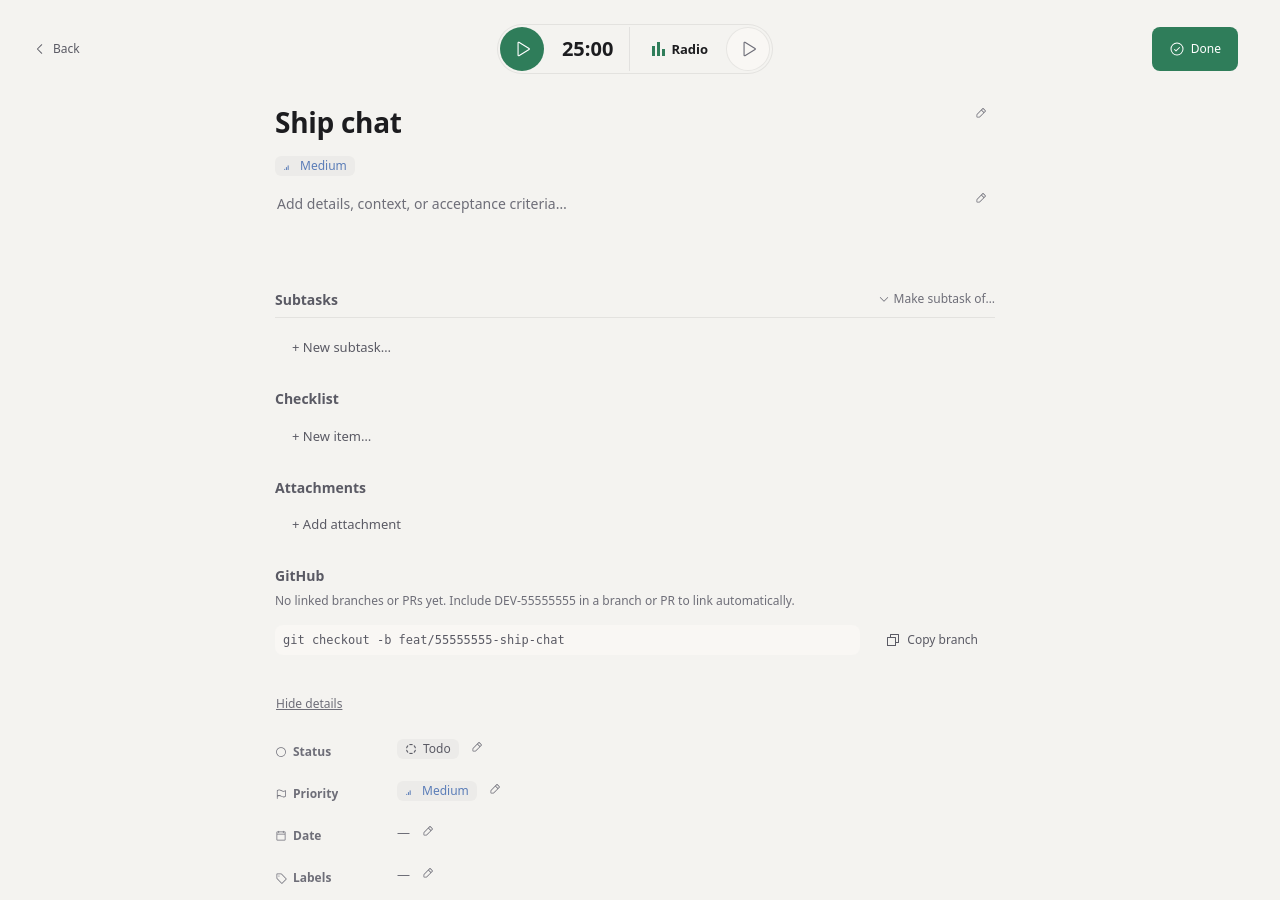
Test case: FocusPage › clicking checklist add while subtask composer open switches composers
Click the button "+ New subtask…": click(347, 347) x1=275 y1=326 x2=995 y2=370
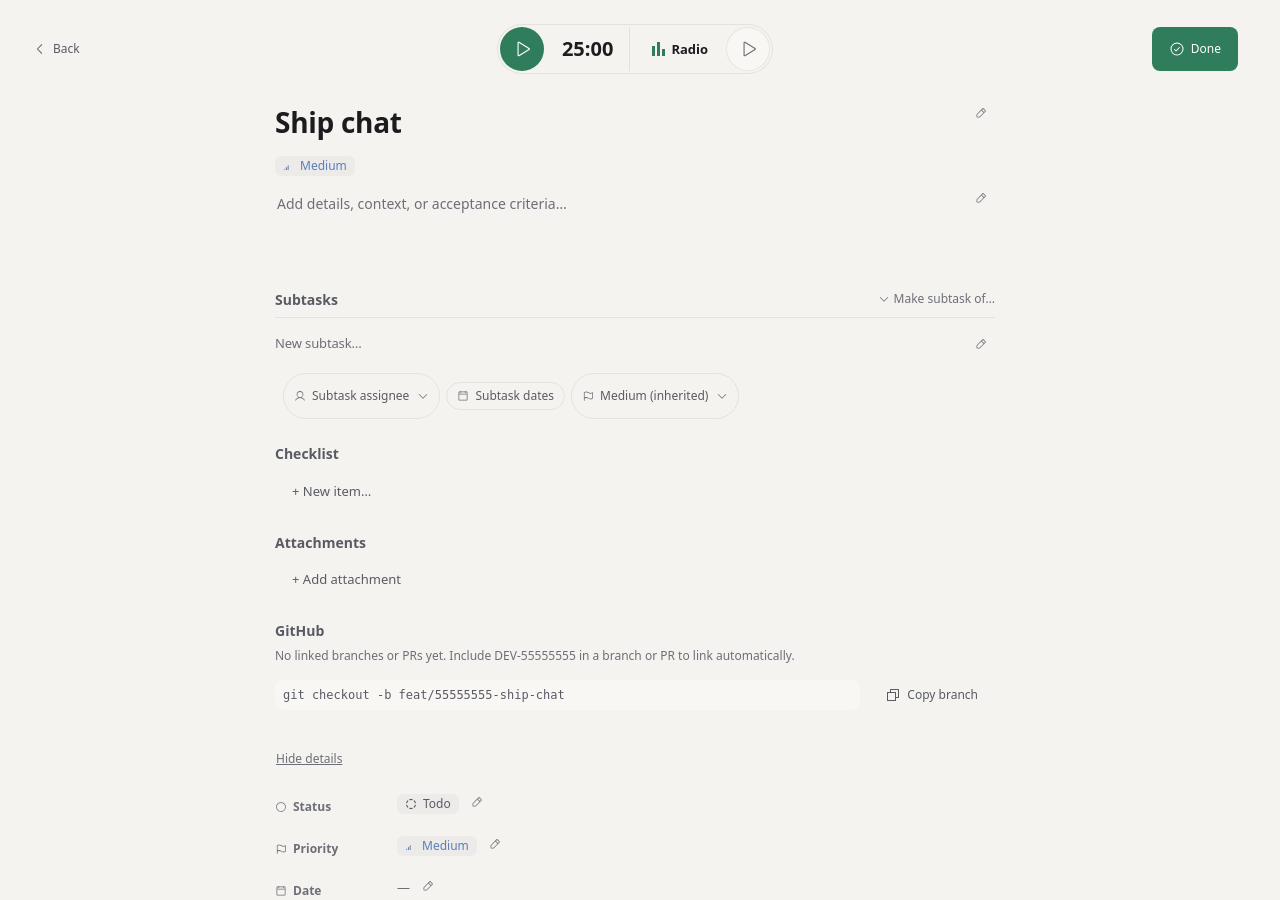
In the text box labelled "New subtask…": (635, 346) x1=275 y1=330 x2=995 y2=362, type "draft yarg"
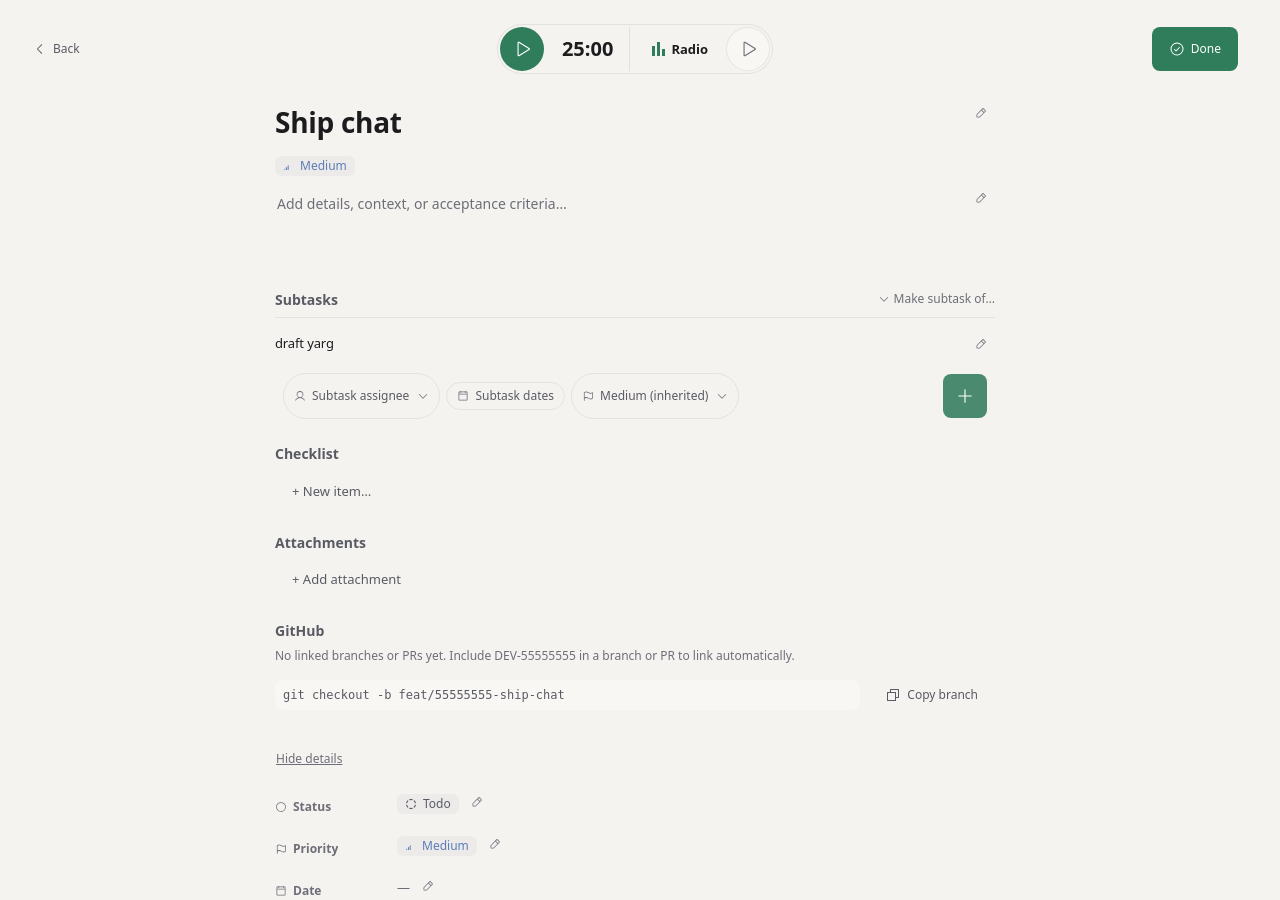
Click the button "+ New item…": click(337, 491) x1=275 y1=470 x2=995 y2=514
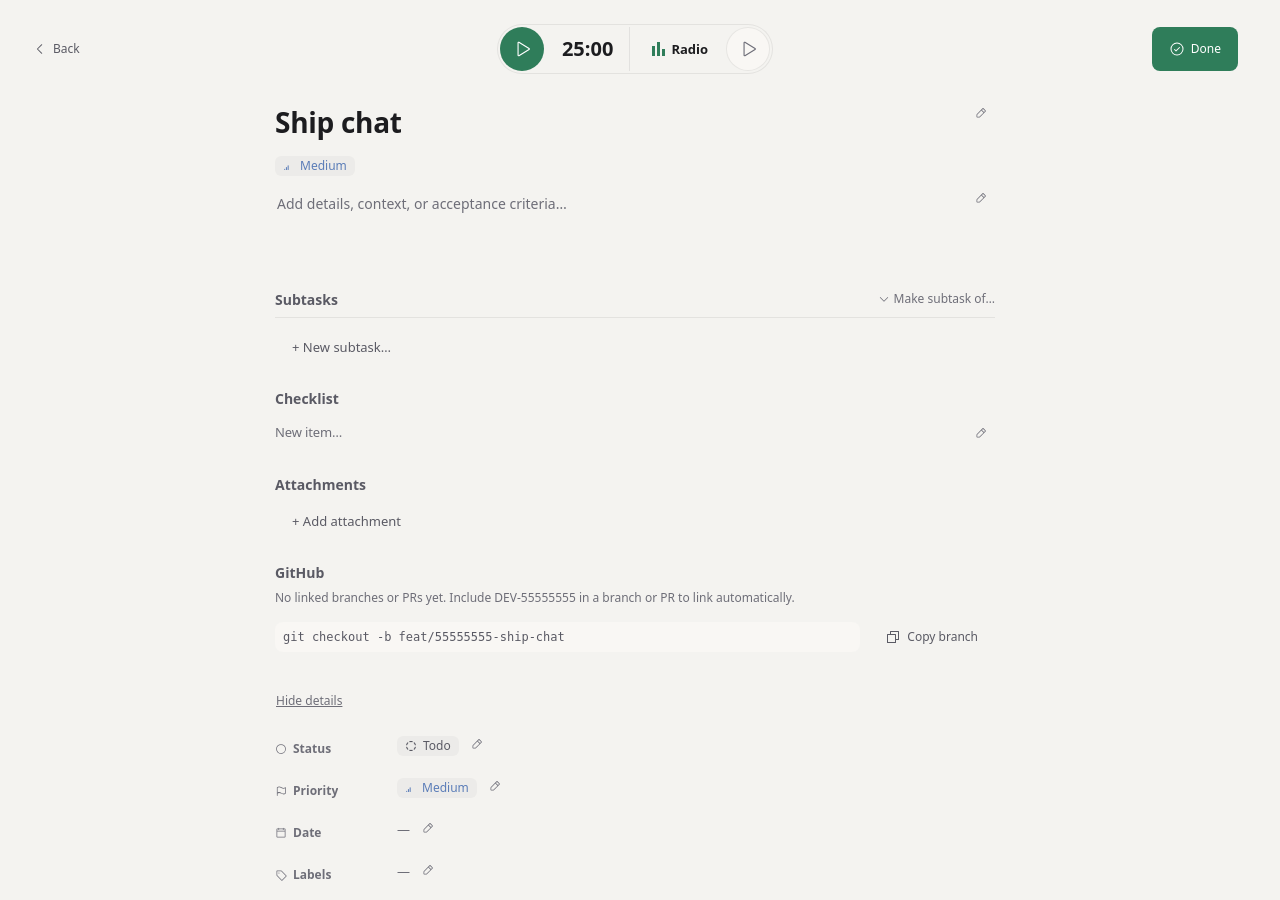
Expected: the text box labelled "New item…" is shown, x1=275 y1=419 x2=995 y2=451
